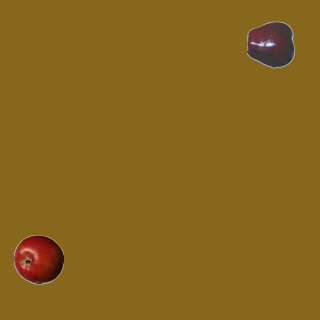Apple Braeburn: (13, 234, 63, 284)
Apple Red Delicious: (246, 19, 296, 69)
